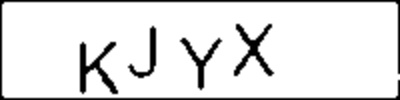J: (125, 22, 160, 78)
K: (75, 38, 122, 98)
X: (228, 20, 278, 80)
Y: (176, 35, 225, 92)
